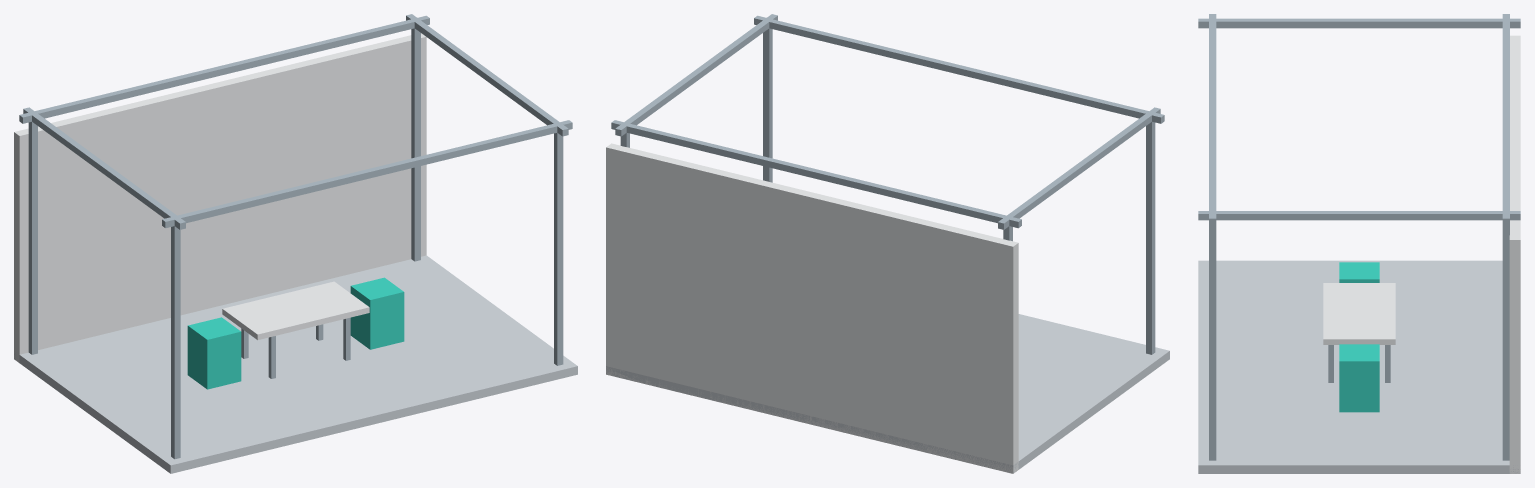
The picture shows the model from 3 angles, left to right: view 1: azimuth 30°, elevation 25°; view 2: azimuth 150°, elevation 25°; view 3: azimuth 270°, elevation 25°; orthographic projection. The views are drawn at different scales.
Visible parts, largest first — view 1: Exhibition Booth Concept; view 2: Exhibition Booth Concept; view 3: Exhibition Booth Concept.
Part boxes in pixels (box(x1,y1,x2,y2)): Exhibition Booth Concept: box(14, 14, 577, 473); Exhibition Booth Concept: box(606, 14, 1169, 473); Exhibition Booth Concept: box(1198, 14, 1520, 473).
Bounding box in the file's own units: 6 × 3.49 × 4.
